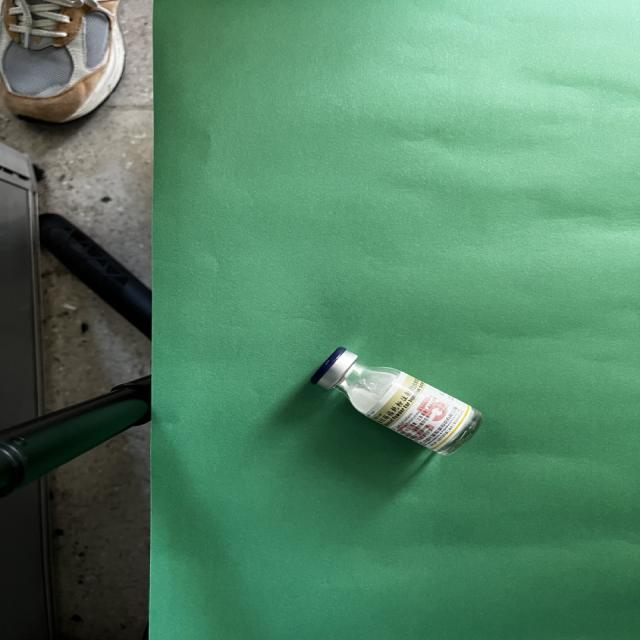Vials: (311, 348, 481, 455)
